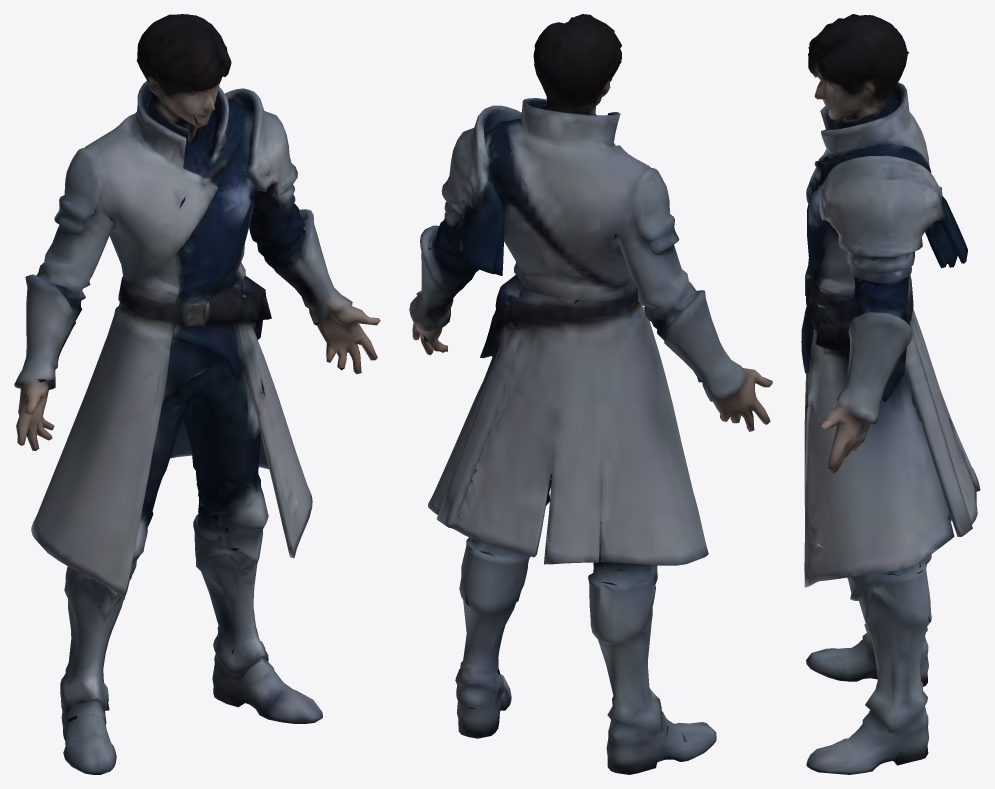
Rendered from outfit_leader_coat_t1_m.glb.
3 renders of one model, left to right at view 1: azimuth 30°, elevation 25°; view 2: azimuth 150°, elevation 25°; view 3: azimuth 270°, elevation 25°, orthographic.
Visible parts, largest first — view 1: outfit_leader_coat_t1_m; view 2: outfit_leader_coat_t1_m; view 3: outfit_leader_coat_t1_m.
Boxes of the visible parts, left/top/right/bottom form: outfit_leader_coat_t1_m: left=14, top=14, right=380, bottom=774; outfit_leader_coat_t1_m: left=409, top=14, right=772, bottom=774; outfit_leader_coat_t1_m: left=801, top=14, right=980, bottom=774.
Bounding box in the file's own units: 0.9719 × 1.85 × 0.4286.
1 material, 1 textured.
